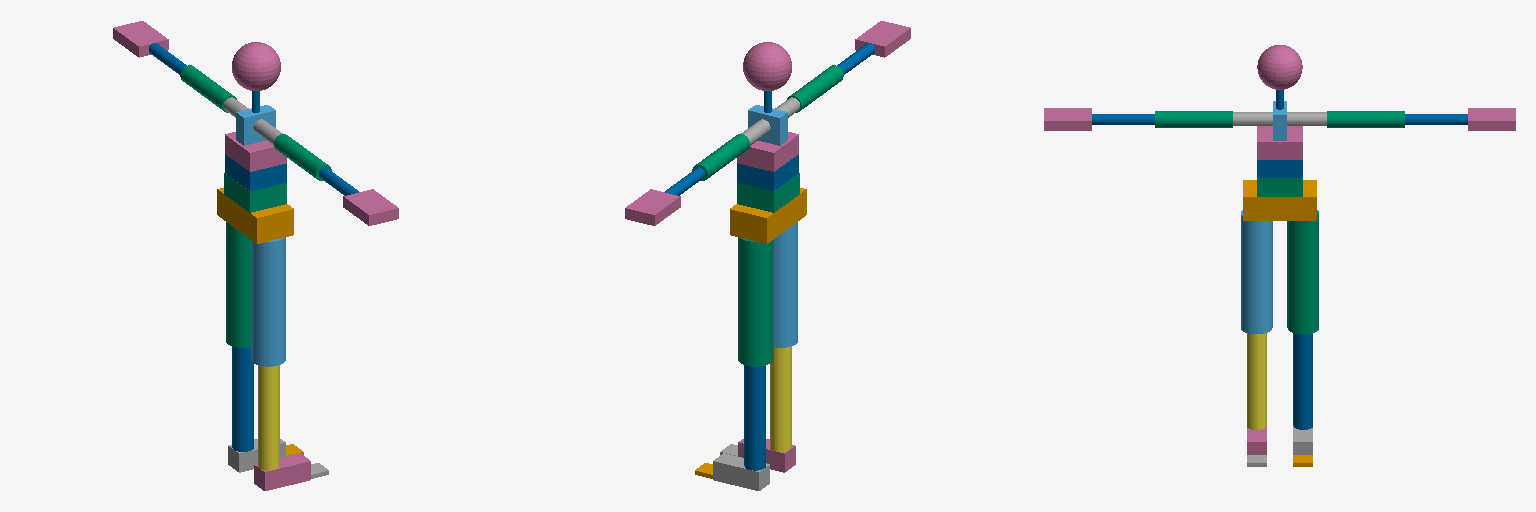
--- What the picture shows (computed from the rendered views, not written in the file) ---
3 views of the same robot in one strip: view 1: azimuth 30°, elevation 25°; view 2: azimuth 150°, elevation 25°; view 3: azimuth 270°, elevation 25° (orthographic).
Model XSensStyleModel_template with 49 links and 48 joints (48 revolute), rooted at Pelvis, posed every joint at zero.
Links seen in each view (by area): view 1: RightUpperLeg, LeftUpperLeg, Pelvis, RightLowerLeg, LeftLowerLeg, Head, T12, RightFoot, RightHand, L5, LeftHand, L3 (+4 smaller); view 2: LeftUpperLeg, RightUpperLeg, Pelvis, LeftLowerLeg, RightLowerLeg, Head, T12, LeftFoot, LeftHand, L5, RightHand, L3 (+4 smaller); view 3: RightUpperLeg, LeftUpperLeg, Pelvis, RightLowerLeg, LeftLowerLeg, Head, T12, RightUpperArm, LeftUpperArm, RightHand, LeftHand, L5 (+5 smaller).
Link boxes in pixels (x1,y1,x2,y2): RightUpperLeg: (251, 237, 285, 366); LeftUpperLeg: (226, 222, 250, 347); Pelvis: (217, 188, 293, 243); RightLowerLeg: (258, 365, 279, 470); LeftLowerLeg: (232, 346, 253, 451); Head: (232, 42, 280, 90); T12: (225, 132, 286, 171); RightFoot: (254, 453, 310, 490); RightHand: (343, 189, 398, 225); L5: (224, 173, 286, 212); LeftHand: (113, 21, 168, 57); L3: (225, 154, 286, 190); LeftUpperLeg: (738, 237, 772, 366); RightUpperLeg: (773, 222, 797, 347); Pelvis: (730, 188, 806, 243); LeftLowerLeg: (744, 365, 765, 470); RightLowerLeg: (770, 346, 791, 451); Head: (743, 42, 791, 90); T12: (737, 132, 798, 171); LeftFoot: (713, 453, 769, 490); LeftHand: (625, 189, 680, 225); L5: (737, 173, 799, 212); RightHand: (855, 21, 910, 57); L3: (737, 154, 798, 190); RightUpperLeg: (1241, 210, 1272, 333); LeftUpperLeg: (1287, 210, 1318, 333); Pelvis: (1243, 180, 1316, 220); RightLowerLeg: (1247, 333, 1266, 429); LeftLowerLeg: (1293, 333, 1312, 429); Head: (1257, 45, 1302, 89); T12: (1257, 126, 1302, 159); RightUpperArm: (1155, 111, 1232, 127); LeftUpperArm: (1327, 111, 1404, 127); RightHand: (1044, 108, 1091, 130); LeftHand: (1468, 108, 1515, 130); L5: (1257, 178, 1302, 196).
Bounding box of the posed robot: 0.3304 × 1.92 × 1.79 m (x, y, z).
Geometry: primitives only (box / cylinder / sphere), no mesh files.

robot.urdf — XSensStyleModel_template:
<!--URDF MODEL 48 DoFs-->

<robot name="XSensStyleModel_template">
<!--To open this model with Gazebo replace the null masses, inertias and dimensions of the 'fake links f1 and f2'-->
    <!--LINKS-->
	<!--Link base (1)-->
	<link name="Pelvis">
        <inertial>
            <mass value="6.312"/>
			<!--COM origin wrt pHipOrigin-->
            <origin xyz="0           0    0.057318" rpy="0 0 0" />
            <inertia ixx="0.052822" iyy="0.019965" izz="0.060476" ixy="0" ixz="0" iyz="0"/>
        </inertial>

        <visual>
			<!--box origin wrt pHipOrigin-->
            <origin xyz="0           0    0.057318" rpy="0 0 0" />
            <geometry>
                <box size="0.16203     0.29786     0.10818"/>
            </geometry>
        </visual>

        <collision>
			<!--box origin wrt pHipOrigin-->
            <origin xyz="0           0    0.057318" rpy="0 0 0" />
            <geometry>
                <box size="0.16203     0.29786     0.10818"/>
            </geometry>
        </collision>

    </link>
    <!--Chain from (2) to (7)-->
	<link name="L5_f1">
        <inertial>
            <mass value="0"/>
            <origin xyz="0 0 0" rpy="0 0 0" />
            <inertia ixx="0" iyy="0" izz="0" ixy="0" ixz="0" iyz="0"/>
        </inertial>
    </link>
	<link name="L5">
        <inertial>
            <mass value="8.0478"/>
			<!--COM origin wrt jL5S1-->
            <origin xyz="0           0    0.044243" rpy="0 0 0" />
            <inertia ixx="0.029829" iyy="0.022858" izz="0.042185" ixy="0" ixz="0" iyz="0"/>
        </inertial>

        <visual>
			<!--box origin origin wrt jL5S1-->
            <origin xyz="0           0    0.044243" rpy="0 0 0" />
            <geometry>
                <box size="0.16203     0.19144    0.088486"/>
            </geometry>
        </visual>

        <collision>
			<!--box origin origin wrt jL5S1-->
            <origin xyz="0           0    0.044243" rpy="0 0 0" />
            <geometry>
                <box size="0.16203     0.19144    0.088486"/>
            </geometry>
        </collision>
    </link>
	<link name="L3_f1">
        <inertial>
            <mass value="0"/>
            <origin xyz="0 0 0" rpy="0 0 0" />
            <inertia ixx="0" iyy="0" izz="0" ixy="0" ixz="0" iyz="0"/>
        </inertial>
    </link>
	<link name="L3">
        <inertial>
            <mass value="8.0478"/>
			<!--COM origin wrt jL4L3-->
            <origin xyz="0           0    0.039957" rpy="0 0 0" />
            <inertia ixx="0.028861" iyy="0.02189" izz="0.042185" ixy="0" ixz="0" iyz="0"/>
        </inertial>

        <visual>
			<!--box origin origin wrt jL4L3-->
            <origin xyz="0           0    0.039957" rpy="0 0 0" />
            <geometry>
                <box size="0.16203     0.19144    0.079914"/>
            </geometry>
        </visual>

        <collision>
			<!--box origin origin wrt jL4L3-->
            <origin xyz="0           0    0.039957" rpy="0 0 0" />
            <geometry>
                <box size="0.16203     0.19144    0.079914"/>
            </geometry>
        </collision>
    </link>
	<link name="T12_f1">
        <inertial>
            <mass value="0"/>
            <origin xyz="0 0 0" rpy="0 0 0" />
            <inertia ixx="0" iyy="0" izz="0" ixy="0" ixz="0" iyz="0"/>
        </inertial>
    </link>
	<link name="T12">
        <inertial>
            <mass value="8.0478"/>
			<!--COM origin wrt jL1T12-->
            <origin xyz="0           0    0.039957" rpy="0 0 0" />
            <inertia ixx="0.028861" iyy="0.02189" izz="0.042185" ixy="0" ixz="0" iyz="0"/>
        </inertial>

        <visual>
			<!--box origin origin wrt jL1T12-->
            <origin xyz="0           0    0.039957" rpy="0 0 0" />
            <geometry>
                <box size="0.16203     0.19144    0.079914"/>
            </geometry>
        </visual>

        <collision>
			<!--box origin origin wrt jL1T12-->
            <origin xyz="0           0    0.039957" rpy="0 0 0" />
            <geometry>
                <box size="0.16203     0.19144    0.079914"/>
            </geometry>
        </collision>
    </link>
	<link name="T8_f1">
        <inertial>
            <mass value="0"/>
            <origin xyz="0 0 0" rpy="0 0 0" />
            <inertia ixx="0" iyy="0" izz="0" ixy="0" ixz="0" iyz="0"/>
        </inertial>
    </link>
	<link name="T8_f2">
        <inertial>
            <mass value="0"/>
            <origin xyz="0 0 0" rpy="0 0 0" />
            <inertia ixx="0" iyy="0" izz="0" ixy="0" ixz="0" iyz="0"/>
        </inertial>
    </link>
	<link name="T8">
        <inertial>
            <mass value="3.156"/>
			<!--COM origin wrt jT9T8-->
            <origin xyz="0           0    0.057446" rpy="0 0 0" />
            <inertia ixx="0.0044311" iyy="0.0085523" izz="0.0060402" ixy="0" ixz="0" iyz="0"/>
        </inertial>

        <visual>
			<!--box origin wrt jT9T8-->
            <origin xyz="0           0    0.057446" rpy="0 0 0" />
            <geometry>
                <box size="0.13899      0.0604     0.11489"/>
            </geometry>
        </visual>

        <collision>
			<!--box origin wrt jT9T8-->
            <origin xyz="0           0    0.057446" rpy="0 0 0" />
            <geometry>
                <box size="0.13899      0.0604     0.11489"/>
            </geometry>
        </collision>

    </link>
	<link name="Neck_f1">
        <inertial>
            <mass value="0"/>
            <origin xyz="0 0 0" rpy="0 0 0" />
            <inertia ixx="0" iyy="0" izz="0" ixy="0" ixz="0" iyz="0"/>
        </inertial>
    </link>
	<link name="Neck_f2">
        <inertial>
            <mass value="0"/>
            <origin xyz="0 0 0" rpy="0 0 0" />
            <inertia ixx="0" iyy="0" izz="0" ixy="0" ixz="0" iyz="0"/>
        </inertial>
    </link>
	<link name="Neck">
        <inertial>
            <mass value="0.9468"/>
			<!--COM origin wrt jT1C7-->
            <origin xyz="0           0    0.045875" rpy="0 0 0" />
            <inertia ixx="0.00087909" iyy="0.00087909" izz="0.00042982" ixy="0" ixz="0" iyz="0"/>
        </inertial>

        <visual>
			<!--box origin wrt jT1C7-->
            <origin xyz="0           0    0.045875" rpy="0 0 0" />
            <geometry>
		<cylinder length="0.09175" radius="0.015066"/>
            </geometry>
        </visual>

        <collision>
			<!--box origin wrt jT1C7-->
            <origin xyz="0           0    0.045875" rpy="0 0 0" />
            <geometry>
                <cylinder length="0.09175" radius="0.015066"/>
            </geometry>
        </collision>
    </link>
	<link name="Head_f1">
        <inertial>
            <mass value="0"/>
            <origin xyz="0 0 0" rpy="0 0 0" />
            <inertia ixx="0" iyy="0" izz="0" ixy="0" ixz="0" iyz="0"/>
        </inertial>
    </link>
	<link name="Head">
        <inertial>
            <mass value="2.8404"/>
			<!--COM origin wrt jC1Head-->
            <origin xyz="0           0    0.092703" rpy="0 0 0" />
            <inertia ixx="0.0097641" iyy="0.0097641" izz="0.0097641" ixy="0" ixz="0" iyz="0"/>
        </inertial>

        <visual>
			<!--boc origin wrt jC1Head-->
            <origin xyz="0           0    0.092703" rpy="0 0 0" />
            <geometry>
                <sphere radius="0.092703"/>
            </geometry>
        </visual>

        <collision>
			<!--box origin wrt jC1Head-->
            <origin xyz="0           0    0.092703" rpy="0 0 0" />
            <geometry>
                <sphere radius="0.092703"/>
            </geometry>
        </collision>

    </link>
	<!--Chain from (8) to (11)-->
	<link name="RightShoulder">
        <inertial>
            <mass value="2.4459"/>
			<!--COM origin wrt jRightC7Shoulder-->
            <origin xyz="0   -0.081595           0" rpy="0 0 0" />
            <inertia ixx="0.0059341" iyy="0.0010123" izz="0.0059341" ixy="0" ixz="0" iyz="0"/>
        </inertial>

        <visual>
			<!--box origin wrt jRightC7Shoulder. RPY rotated of pi/2.-->
            <origin xyz="0   -0.081595           0" rpy="1.5708 0 0" />
            <geometry>
                <cylinder length="0.16319" radius="0.02877"/>
            </geometry>
        </visual>

        <collision>
			<!--box origin wrt jRightC7Shoulder. RPY rotated of pi/2.-->
            <origin xyz="0   -0.081595           0" rpy="1.5708 0 0" />
            <geometry>
                <cylinder length="0.16319" radius="0.02877"/>
            </geometry>
        </collision>

    </link>
	<link name="RightUpperArm_f1">
        <inertial>
            <mass value="0"/>
            <origin xyz="0 0 0" rpy="0 0 0" />
            <inertia ixx="0" iyy="0" izz="0" ixy="0" ixz="0" iyz="0"/>
        </inertial>
    </link>
	<link name="RightUpperArm_f2">
        <inertial>
            <mass value="0"/>
            <origin xyz="0 0 0" rpy="0 0 0" />
            <inertia ixx="0" iyy="0" izz="0" ixy="0" ixz="0" iyz="0"/>
        </inertial>
    </link>
    <link name="RightUpperArm">
        <inertial>
            <mass value="2.367"/>
			<!--COM origin wrt jRightShoulder-->
            <origin xyz="0    -0.15754           0" rpy="0 0 0" />
            <inertia ixx="0.020275" iyy="0.0013847" izz="0.020275" ixy="0" ixz="0" iyz="0"/>
        </inertial>

        <visual>
			<!--box origin wrt jRightShoulder. RPY rotated of pi/2.-->
            <origin xyz="0    -0.15754           0" rpy="1.5708 0 0" />
            <geometry>
                <cylinder length="0.31509" radius="0.034205"/>
            </geometry>
        </visual>

        <collision>
			<!--box origin wrt jRightShoulder. RPY rotated of pi/2.-->
            <origin xyz="0    -0.15754           0" rpy="1.5708 0 0" />
            <geometry>
                <cylinder length="0.31509" radius="0.034205"/>
            </geometry>
        </collision>

    </link>
	<link name="RightForeArm_f1">
        <inertial>
            <mass value="0"/>
            <origin xyz="0 0 0" rpy="0 0 0" />
            <inertia ixx="0" iyy="0" izz="0" ixy="0" ixz="0" iyz="0"/>
        </inertial>
    </link>
	<link name="RightForeArm">
        <inertial>
            <mass value="1.578"/>
			<!--COM origin wrt jRightElbow-->
            <origin xyz="0     -0.1292           0" rpy="0 0 0" />
            <inertia ixx="0.0089856" iyy="0.00041027" izz="0.0089856" ixy="0" ixz="0" iyz="0"/>
        </inertial>

        <visual>
			<!--box origin wrt jRightElbow. RPY rotated of pi/2.-->
            <origin xyz="0     -0.1292           0" rpy="1.5708 0 0" />
            <geometry>
                <cylinder length="0.2584" radius="0.022803"/>
            </geometry>
        </visual>

        <collision>
			<!--box origin wrt jRightElbow. RPY rotated of pi/2.-->
            <origin xyz="0     -0.1292           0" rpy="1.5708 0 0" />
            <geometry>
                <cylinder length="0.2584" radius="0.022803"/>
            </geometry>
        </collision>

    </link>
	<link name="RightHand_f1">
        <inertial>
            <mass value="0"/>
            <origin xyz="0 0 0" rpy="0 0 0" />
            <inertia ixx="0" iyy="0" izz="0" ixy="0" ixz="0" iyz="0"/>
        </inertial>
    </link>
	<link name="RightHand">
        <inertial>
            <mass value="1.1334"/>
			<!--COM origin wrt jRightWrist-->
            <origin xyz="0   -0.096871           0" rpy="0 0 0" />
            <inertia ixx="0.0037418" iyy="0.0017721" izz="0.005121" ixy="0" ixz="0" iyz="0"/>
        </inertial>

        <visual>
			<!--box origin wrt jRightWrist-->
            <origin xyz="0   -0.096871           0" rpy="0 0 0" />
            <geometry>
                <box size="0.12916     0.19374    0.045607"/>
            </geometry>
        </visual>

        <collision>
			<!--box origin wrt jRightWrist-->
            <origin xyz="0   -0.096871           0" rpy="0 0 0" />
            <geometry>
                <box size="0.12916     0.19374    0.045607"/>
            </geometry>
        </collision>

    </link>
	<!--Chain from (12) to (15)-->
	<link name="LeftShoulder">
        <inertial>
            <mass value="2.4459"/>
			<!--COM origin wrt jLeftC7Shoulder-->
            <origin xyz="0    0.081595           0" rpy="0 0 0" />
            <inertia ixx="0.0059341" iyy="0.0010123" izz="0.0059341" ixy="0" ixz="0" iyz="0"/>
        </inertial>

        <visual>
			<!--box origin wrt jLeftC7Shoulder. RPY rotated of pi/2.-->
            <origin xyz="0    0.081595           0" rpy="1.5708 0 0" />
            <geometry>
                <cylinder length="0.16319" radius="0.02877"/>
            </geometry>
        </visual>

        <collision>
			<!--box origin wrt jLeftC7Shoulder. RPY rotated of pi/2.-->
            <origin xyz="0    0.081595           0" rpy="1.5708 0 0" />
            <geometry>
                <cylinder length="0.16319" radius="0.02877"/>
            </geometry>
        </collision>

    </link>
	<link name="LeftUpperArm_f1">
        <inertial>
            <mass value="0"/>
            <origin xyz="0 0 0" rpy="0 0 0" />
            <inertia ixx="0" iyy="0" izz="0" ixy="0" ixz="0" iyz="0"/>
        </inertial>
    </link>
	<link name="LeftUpperArm_f2">
        <inertial>
            <mass value="0"/>
            <origin xyz="0 0 0" rpy="0 0 0" />
            <inertia ixx="0" iyy="0" izz="0" ixy="0" ixz="0" iyz="0"/>
        </inertial>
    </link>
	<link name="LeftUpperArm">
        <inertial>
            <mass value="2.367"/>
			<!--COM origin wrt jLeftShoulder-->
            <origin xyz="0     0.15754           0" rpy="0 0 0" />
            <inertia ixx="0.020275" iyy="0.0013847" izz="0.020275" ixy="0" ixz="0" iyz="0"/>
        </inertial>

        <visual>
			<!--box origin wrt jLeftShoulder. RPY rotated of pi/2.-->
            <origin xyz="0     0.15754           0" rpy="1.5708 0 0" />
            <geometry>
                <cylinder length="0.31509" radius="0.034205"/>
            </geometry>
        </visual>

        <collision>
			<!--box origin wrt jLeftShoulder. RPY rotated of pi/2.-->
            <origin xyz="0     0.15754           0" rpy="1.5708 0 0" />
            <geometry>
                <cylinder length="0.31509" radius="0.034205"/>
            </geometry>
        </collision>

    </link>
	<link name="LeftForeArm_f1">
        <inertial>
            <mass value="0"/>
            <origin xyz="0 0 0" rpy="0 0 0" />
            <inertia ixx="0" iyy="0" izz="0" ixy="0" ixz="0" iyz="0"/>
        </inertial>
    </link>
	<link name="LeftForeArm">
        <inertial>
            <mass value="1.578"/>
			<!--COM origin wrt jLeftElbow-->
            <origin xyz="0      0.1292           0" rpy="0 0 0" />
            <inertia ixx="0.0089856" iyy="0.00041027" izz="0.0089856" ixy="0" ixz="0" iyz="0"/>
        </inertial>

        <visual>
			<!--box origin wrt jLeftElbow. RPY rotated of pi/2.-->
            <origin xyz="0      0.1292           0" rpy="1.5708 0 0" />
            <geometry>
                <cylinder length="0.2584" radius="0.022803"/>
            </geometry>
        </visual>

        <collision>
			<!--box origin wrt jLeftElbow. RPY rotated of pi/2.-->
            <origin xyz="0      0.1292           0" rpy="1.5708 0 0" />
            <geometry>
                <cylinder length="0.2584" radius="0.022803"/>
            </geometry>
        </collision>

    </link>
	<link name="LeftHand_f1">
        <inertial>
            <mass value="0"/>
            <origin xyz="0 0 0" rpy="0 0 0" />
            <inertia ixx="0" iyy="0" izz="0" ixy="0" ixz="0" iyz="0"/>
        </inertial>
    </link>
	<link name="LeftHand">
        <inertial>
            <mass value="0.4734"/>
			<!--COM origin wrt jLeftWrist-->
            <origin xyz="0    0.096871           0" rpy="0 0 0" />
            <inertia ixx="0.0015629" iyy="0.00074019" izz="0.0021389" ixy="0" ixz="0" iyz="0"/>
        </inertial>

        <visual>
			<!--COM origin wrt jLeftWrist-->
            <origin xyz="0    0.096871           0" rpy="0 0 0" />
            <geometry>
                <box size="0.12916     0.19374    0.045607"/>
            </geometry>
        </visual>

        <collision>
			<!--COM origin wrt jLeftWrist-->
            <origin xyz="0    0.096871           0" rpy="0 0 0" />
            <geometry>
                <box size="0.12916     0.19374    0.045607"/>
            </geometry>
        </collision>

    </link>
	<!--Chain from (16) to (19)-->
	<link name="RightUpperLeg_f1">
        <inertial>
            <mass value="0"/>
            <origin xyz="0 0 0" rpy="0 0 0" />
            <inertia ixx="0" iyy="0" izz="0" ixy="0" ixz="0" iyz="0"/>
        </inertial>
    </link>
	<link name="RightUpperLeg_f2">
        <inertial>
            <mass value="0"/>
            <origin xyz="0 0 0" rpy="0 0 0" />
            <inertia ixx="0" iyy="0" izz="0" ixy="0" ixz="0" iyz="0"/>
        </inertial>
    </link>
    <link name="RightUpperLeg">
        <inertial>
            <mass value="9.8625"/>
			<!--COM origin wrt jRightHip-->
            <origin xyz="0           0     -0.2582" rpy="0 0 0" />
            <inertia ixx="0.22964" iyy="0.22964" izz="0.020925" ixy="0" ixz="0" iyz="0"/>
        </inertial>

        <visual>
			<!--box origin wrt jRightHip-->
            <origin xyz="0           0     -0.2582" rpy="0 0 0" />
            <geometry>
                <cylinder length="0.51641" radius="0.065141"/>
            </geometry>
        </visual>

        <collision>
			<!--box origin wrt jRightHip-->
            <origin xyz="0           0     -0.2582" rpy="0 0 0" />
            <geometry>
                <cylinder length="0.51641" radius="0.065141"/>
            </geometry>
        </collision>

    </link>
	<link name="RightLowerLeg_f1">
        <inertial>
            <mass value="0"/>
            <origin xyz="0 0 0" rpy="0 0 0" />
            <inertia ixx="0" iyy="0" izz="0" ixy="0" ixz="0" iyz="0"/>
        </inertial>
    </link>
    <link name="RightLowerLeg">
        <inertial>
            <mass value="2.8799"/>
			<!--COM origin wrt jRightKnee-->
            <origin xyz="0           0    -0.22068" rpy="0 0 0" />
            <inertia ixx="0.047941" iyy="0.047941" izz="0.002384" ixy="0" ixz="0" iyz="0"/>
        </inertial>

        <visual>
			<!--box origin wrt jRightKnee-->
            <origin xyz="0           0    -0.22068" rpy="0 0 0" />
            <geometry>
                <cylinder length="0.44136" radius="0.04069"/>
            </geometry>
        </visual>

        <collision>
			<!--box origin wrt jRightKnee-->
            <origin xyz="0           0    -0.22068" rpy="0 0 0" />
            <geometry>
                <cylinder length="0.44136" radius="0.04069"/>
            </geometry>
        </collision>

    </link>
	<link name="RightFoot_f1">
        <inertial>
            <mass value="0"/>
            <origin xyz="0 0 0" rpy="0 0 0" />
            <inertia ixx="0" iyy="0" izz="0" ixy="0" ixz="0" iyz="0"/>
        </inertial>
    </link>
	<link name="RightFoot_f2">
        <inertial>
            <mass value="0"/>
            <origin xyz="0 0 0" rpy="0 0 0" />
            <inertia ixx="0" iyy="0" izz="0" ixy="0" ixz="0" iyz="0"/>
        </inertial>
    </link>
    <link name="RightFoot">
        <inertial>
            <mass value="1.0257"/>
			<!--COM origin wrt jRightAnkle-->
            <origin xyz="0.059932           0    -0.03973" rpy="0 0 0" />
            <inertia ixx="0.0011058" iyy="0.003993" izz="0.0040194" ixy="0" ixz="0" iyz="0"/>
        </inertial>

        <visual>
			<!--box origin wrt jRightAnkle-->
	    	<origin xyz="0.059932           0    -0.03973" rpy="0 0 0" />
            <geometry>
                <box size="0.201     0.08138     0.07946"/>
            </geometry>
        </visual>

        <collision>
			<!--box origin wrt jRightAnkle-->
		    <origin xyz="0.059932           0    -0.03973" rpy="0 0 0" />
	            <geometry>
	                <box size="0.201     0.08138     0.07946"/>
	            </geometry>
        </collision>

    </link>
    <link name="RightToe">
        <inertial>
            <mass value="0.11835"/>
			<!--COM origin wrt jRightBallFoot-->
            <origin xyz="0.039497           0           0" rpy="0 0 0" />
            <inertia ixx="6.8414e-05" iyy="6.4641e-05" izz="0.00012686" ixy="0" ixz="0" iyz="0"/>
        </inertial>

        <visual>
			<!--box origin wrt jRightBallFoot-->
            <origin xyz="0.039497           0           0" rpy="0 0 0" />
            <geometry>
                <box size="0.078995     0.08138    0.017721"/>
            </geometry>
        </visual>

        <collision>
			<!--box origin wrt jRightBallFoot-->
            <origin xyz="0.039497           0           0" rpy="0 0 0" />
            <geometry>
                <box size="0.078995     0.08138    0.017721"/>
            </geometry>
        </collision>
    </link>
	<!--Chain from (20) to (23)-->
	<link name="LeftUpperLeg_f1">
        <inertial>
            <mass value="0"/>
            <origin xyz="0 0 0" rpy="0 0 0" />
            <inertia ixx="0" iyy="0" izz="0" ixy="0" ixz="0" iyz="0"/>
        </inertial>
    </link>
	<link name="LeftUpperLeg_f2">
        <inertial>
            <mass value="0"/>
            <origin xyz="0 0 0" rpy="0 0 0" />
            <inertia ixx="0" iyy="0" izz="0" ixy="0" ixz="0" iyz="0"/>
        </inertial>
    </link>
    <link name="LeftUpperLeg">
        <inertial>
            <mass value="9.8625"/>
			<!--COM origin wrt jLeftHip-->
            <origin xyz="0           0     -0.2582" rpy="0 0 0" />
            <inertia ixx="0.22964" iyy="0.22964" izz="0.020925" ixy="0" ixz="0" iyz="0"/>
        </inertial>

        <visual>
			<!--box origin wrt jLeftHip-->
            <origin xyz="0           0     -0.2582" rpy="0 0 0" />
            <geometry>
                <cylinder length="0.51641" radius="-0.065141"/>
            </geometry>
        </visual>

        <collision>
			<!--box origin wrt jLeftHip-->
            <origin xyz="0           0     -0.2582" rpy="0 0 0" />
            <geometry>
                <cylinder length="0.51641" radius="-0.065141"/>
            </geometry>
        </collision>

    </link>
	<link name="LeftLowerLeg_f1">
        <inertial>
            <mass value="0"/>
            <origin xyz="0 0 0" rpy="0 0 0" />
            <inertia ixx="0" iyy="0" izz="0" ixy="0" ixz="0" iyz="0"/>
        </inertial>
    </link>
	<link name="LeftLowerLeg">
        <inertial>
            <mass value="2.8799"/>
			<!--COM origin wrt jLeftKnee-->
            <origin xyz="0           0    -0.22068" rpy="0 0 0" />
            <inertia ixx="0.047941" iyy="0.047941" izz="0.002384" ixy="0" ixz="0" iyz="0"/>
        </inertial>

        <visual>
			<!--box origin wrt jLeftKnee-->
            <origin xyz="0           0    -0.22068" rpy="0 0 0" />
            <geometry>
		<cylinder length="0.44136" radius="0.04069"/>
            </geometry>
        </visual>

        <collision>
			<!--box origin wrt jLeftKnee-->
            <origin xyz="0           0    -0.22068" rpy="0 0 0" />
            <geometry>
		<cylinder length="0.44136" radius="0.04069"/>
            </geometry>
        </collision>

    </link>
	<link name="LeftFoot_f1">
        <inertial>
            <mass value="0"/>
            <origin xyz="0 0 0" rpy="0 0 0" />
            <inertia ixx="0" iyy="0" izz="0" ixy="0" ixz="0" iyz="0"/>
        </inertial>
    </link>
	<link name="LeftFoot_f2">
        <inertial>
            <mass value="0"/>
            <origin xyz="0 0 0" rpy="0 0 0" />
            <inertia ixx="0" iyy="0" izz="0" ixy="0" ixz="0" iyz="0"/>
        </inertial>
    </link>
    <link name="LeftFoot">
        <inertial>
            <mass value="1.0257"/>
			<!--COM origin wrt jLeftAnkle-->
            <origin xyz="0.059932           0    -0.03973" rpy="0 0 0" />
            <inertia ixx="0.0011058" iyy="0.003993" izz="0.0040194" ixy="0" ixz="0" iyz="0"/>
        </inertial>

        <visual>
			<!--box origin wrt jLeftAnkle-->
	   	 	<origin xyz="0.059932           0    -0.03973" rpy="0 0 0" />
            <geometry>
                <box size="0.201     0.08138     0.07946"/>
            </geometry>
        </visual>

        <collision>
			<!--box origin wrt jLeftAnkle-->
		    <origin xyz="0.059932           0    -0.03973" rpy="0 0 0" />
	            <geometry>
	                <box size="0.201     0.08138     0.07946"/>
	            </geometry>
        </collision>

    </link>
	<link name="LeftToe">
        <inertial>
            <mass value="0.11835"/>
			<!--COM origin wrt jLeftBallFoot-->
            <origin xyz="0.039497           0           0" rpy="0 0 0" />
            <inertia ixx="6.8414e-05" iyy="6.4641e-05" izz="0.00012686" ixy="0" ixz="0" iyz="0"/>
        </inertial>

        <visual>
			<!--box origin wrt jLeftBallFoot-->
            <origin xyz="0.039497           0           0" rpy="0 0 0" />
            <geometry>
                <box size="0.078995     0.08138    0.017721"/>
            </geometry>
        </visual>

        <collision>
			<!--box origin wrt jLeftBallFoot-->
            <origin xyz="0.039497           0           0" rpy="0 0 0" />
            <geometry>
                <box size="0.078995     0.08138    0.017721"/>
            </geometry>
        </collision>
    </link>


	<!--JOINTS-->
	<!--Chain from (2) to (7)-->
	<joint name="jL5S1_rotx" type="revolute">
        <origin xyz="-0.000659           0     0.11141" rpy="0 0 0"/>
        <parent link="Pelvis"/>
        <child link="L5_f1"/>
        <dynamics damping="0.1" friction="0.0"/>
        <limit effort="30" velocity="1.0" lower="-0.610865" upper="0.610865" />
        <axis xyz="1 0 0" />
    </joint>
	<joint name="jL5S1_roty" type="revolute">
        <origin xyz="0 0 0" rpy="0 0 0"/>
        <parent link="L5_f1"/>
        <child link="L5"/>
        <dynamics damping="0.1" friction="0.0"/>
        <limit effort="30" velocity="1.0" lower="-0.523599" upper="1.309" />
        <axis xyz="0 1 0" />
    </joint>
	<joint name="jL4L3_rotx" type="revolute">
        <origin xyz="0.001197           0    0.088486" rpy="0 0 0"/>
        <parent link="L5"/>
        <child link="L3_f1"/>
        <dynamics damping="0.1" friction="0.0"/>
        <limit effort="30" velocity="1.0" lower="-0.610865" upper="0.610865" />
        <axis xyz="1 0 0" />
    </joint>
	<joint name="jL4L3_roty" type="revolute">
        <origin xyz="0 0 0" rpy="0 0 0"/>
        <parent link="L3_f1"/>
        <child link="L3"/>
        <dynamics damping="0.1" friction="0.0"/>
        <limit effort="30" velocity="1.0" lower="-0.523599" upper="1.309" />
        <axis xyz="0 1 0" />
    </joint>
	<joint name="jL1T12_rotx" type="revolute">
        <origin xyz="0           0    0.079914" rpy="0 0 0"/>
        <parent link="L3"/>
        <child link="T12_f1"/>
        <dynamics damping="0.1" friction="0.0"/>
        <limit effort="30" velocity="1.0" lower="-0.610865" upper="0.610865" />
        <axis xyz="1 0 0" />
    </joint>
	<joint name="jL1T12_roty" type="revolute">
        <origin xyz="0 0 0" rpy="0 0 0"/>
        <parent link="T12_f1"/>
        <child link="T12"/>
        <dynamics damping="0.1" friction="0.0"/>
        <limit effort="30" velocity="1.0" lower="-0.523599" upper="1.309" />
        <axis xyz="0 1 0" />
    </joint>
	<joint name="jT9T8_rotx" type="revolute">
        <origin xyz="0           0    0.079914" rpy="0 0 0"/>
        <parent link="T12"/>
        <child link="T8_f1"/>
        <dynamics damping="0.1" friction="0.0"/>
        <limit effort="30" velocity="1.0" lower="-0.349066" upper="0.349066" />
        <axis xyz="1 0 0" />
    </joint>
	<joint name="jT9T8_roty" type="revolute">
        <origin xyz="0 0 0" rpy="0 0 0"/>
        <parent link="T8_f1"/>
        <child link="T8_f2"/>
        <dynamics damping="0.1" friction="0.0"/>
        <limit effort="30" velocity="1.0" lower="-0.261799" upper="0.698132" />
        <axis xyz="0 1 0" />
    </joint>
    <joint name="jT9T8_rotz" type="revolute">
        <origin xyz="0 0 0" rpy="0 0 0"/>
        <parent link="T8_f2"/>
        <child link="T8"/>
        <dynamics damping="0.1" friction="0.0"/>
        <limit effort="30" velocity="1.0" lower="-0.610865" upper="0.610865" />
        <axis xyz="0 0 1" />
    </joint>
	<joint name="jT1C7_rotx" type="revolute">
        <origin xyz="0           0     0.11489" rpy="0 0 0"/>
        <parent link="T8"/>
        <child link="Neck_f1"/>
        <dynamics damping="0.1" friction="0.0"/>
        <limit effort="30" velocity="1.0" lower="-0.610865" upper="0.610865" />
        <axis xyz="1 0 0" />
    </joint>
	<joint name="jT1C7_roty" type="revolute">
        <origin xyz="0 0 0" rpy="0 0 0"/>
        <parent link="Neck_f1"/>
        <child link="Neck_f2"/>
        <dynamics damping="0.1" friction="0.0"/>
        <limit effort="30" velocity="1.0" lower="-0.959931" upper="1.5708" />
        <axis xyz="0 1 0" />
    </joint>
    <joint name="jT1C7_rotz" type="revolute">
        <origin xyz="0 0 0" rpy="0 0 0"/>
        <parent link="Neck_f2"/>
        <child link="Neck"/>
        <dynamics damping="0.1" friction="0.0"/>
        <limit effort="30" velocity="1.0" lower="-1.22173" upper="1.22173" />
        <axis xyz="0 0 1" />
    </joint>
	<joint name="jC1Head_rotx" type="revolute">
        <origin xyz="0.001481           0     0.09175" rpy="0 0 0"/>
        <parent link="Neck"/>
        <child link="Head_f1"/>
        <dynamics damping="0.1" friction="0.0"/>
        <limit effort="30" velocity="1.0" lower="-0.610865" upper="0.610865" />
        <axis xyz="1 0 0" />
    </joint>
	<joint name="jC1Head_roty" type="revolute">
        <origin xyz="0 0 0" rpy="0 0 0"/>
        <parent link="Head_f1"/>
        <child link="Head"/>
        <dynamics damping="0.1" friction="0.0"/>
        <limit effort="30" velocity="1.0" lower="-0.436332" upper="0.174533" />
        <axis xyz="0 1 0" />
    </joint>
	<!--Chain from (8) to (11)-->
	<joint name="jRightC7Shoulder_rotx" type="revolute">
        <origin xyz="0     -0.0302    0.064859" rpy="0 0 0"/>
        <parent link="T8"/>
        <child link="RightShoulder"/>
        <dynamics damping="0.1" friction="0.0"/>
        <limit effort="30" velocity="1.0" lower="-0.0872665" upper="0.785398" />
        <axis xyz="1 0 0" />
    </joint>
	<joint name="jRightShoulder_rotx" type="revolute">
        <origin xyz="0    -0.16319           0" rpy="0 0 0"/>
        <parent link="RightShoulder"/>
        <child link="RightUpperArm_f1"/>
        <dynamics damping="0.1" friction="0.0"/>
        <limit effort="30" velocity="1.0" lower="-2.35619" upper="1.5708" />
        <axis xyz="1 0 0" />
    </joint>
	<joint name="jRightShoulder_roty" type="revolute">
        <origin xyz="0 0 0" rpy="0 0 0"/>
        <parent link="RightUpperArm_f1"/>
        <child link="RightUpperArm_f2"/>
        <dynamics damping="0.1" friction="0.0"/>
        <limit effort="30" velocity="1.0" lower="-1.5708" upper="1.5708" />
        <axis xyz="0 1 0" />
    </joint>
    <joint name="jRightShoulder_rotz" type="revolute">
        <origin xyz="0 0 0" rpy="0 0 0"/>
        <parent link="RightUpperArm_f2"/>
        <child link="RightUpperArm"/>
        <dynamics damping="0.1" friction="0.0"/>
        <limit effort="30" velocity="1.0" lower="-0.785398" upper="3.14159" />
        <axis xyz="0 0 1" />
    </joint>
	<joint name="jRightElbow_roty" type="revolute">
        <origin xyz="0    -0.31509           0" rpy="0 0 0"/>
        <parent link="RightUpperArm"/>
        <child link="RightForeArm_f1"/>
        <dynamics damping="0.1" friction="0.0"/>
        <limit effort="30" velocity="1.0" lower="-1.5708" upper="1.48353" />
        <axis xyz="0 1 0" />
    </joint>
	<joint name="jRightElbow_rotz" type="revolute">
        <origin xyz="0 0 0" rpy="0 0 0"/>
        <parent link="RightForeArm_f1"/>
        <child link="RightForeArm"/>
        <dynamics damping="0.1" friction="0.0"/>
        <limit effort="30" velocity="1.0" lower="0" upper="2.53073" />
        <axis xyz="0 0 1" />
    </joint>
	<joint name="jRightWrist_rotx" type="revolute">
        <origin xyz="2.6e-05     -0.2584           0" rpy="0 0 0"/>
        <parent link="RightForeArm"/>
        <child link="RightHand_f1"/>
        <dynamics damping="0.1" friction="0.0"/>
        <limit effort="30" velocity="1.0" lower="-0.872665" upper="1.0472" />
        <axis xyz="1 0 0" />
    </joint>
	<joint name="jRightWrist_rotz" type="revolute">
        <origin xyz="0 0 0" rpy="0 0 0"/>
        <parent link="RightHand_f1"/>
        <child link="RightHand"/>
        <dynamics damping="0.1" friction="0.0"/>
        <limit effort="30" velocity="1.0" lower="-0.523599" upper="0.349066" />
        <axis xyz="0 0 1" />
    </joint>
	<!--Chain from (12) to (15)-->
	<joint name="jLeftC7Shoulder_rotx" type="revolute">
        <origin xyz="0      0.0302    0.064859" rpy="0 0 0"/>
        <parent link="T8"/>
        <child link="LeftShoulder"/>
        <dynamics damping="0.1" friction="0.0"/>
        <limit effort="30" velocity="1.0" lower="-0.0872665" upper="0.785398" />
        <axis xyz="1 0 0" />
    </joint>
	<joint name="jLeftShoulder_rotx" type="revolute">
        <origin xyz="0     0.16319           0" rpy="0 0 0"/>
        <parent link="LeftShoulder"/>
        <child link="LeftUpperArm_f1"/>
        <dynamics damping="0.1" friction="0.0"/>
        <limit effort="30" velocity="1.0" lower="-1.5708" upper="2.35619" />
        <axis xyz="1 0 0" />
    </joint>
	<joint name="jLeftShoulder_roty" type="revolute">
        <origin xyz="0 0 0" rpy="0 0 0"/>
        <parent link="LeftUpperArm_f1"/>
        <child link="LeftUpperArm_f2"/>
        <dynamics damping="0.1" friction="0.0"/>
        <limit effort="30" velocity="1.0" lower="-1.5708" upper="1.5708" />
        <axis xyz="0 1 0" />
    </joint>
    <joint name="jLeftShoulder_rotz" type="revolute">
        <origin xyz="0 0 0" rpy="0 0 0"/>
        <parent link="LeftUpperArm_f2"/>
        <child link="LeftUpperArm"/>
        <dynamics damping="0.1" friction="0.0"/>
        <limit effort="30" velocity="1.0" lower="-3.14159" upper="0.785398" />
        <axis xyz="0 0 1" />
    </joint>
    <joint name="jLeftElbow_roty" type="revolute">
        <origin xyz="0     0.31509           0" rpy="0 0 0"/>
        <parent link="LeftUpperArm"/>
        <child link="LeftForeArm_f1"/>
        <dynamics damping="0.1" friction="0.0"/>
        <limit effort="30" velocity="1.0" lower="-1.5708" upper="1.48353" />
        <axis xyz="0 1 0" />
    </joint>
    <joint name="jLeftElbow_rotz" type="revolute">
        <origin xyz="0 0 0" rpy="0 0 0"/>
        <parent link="LeftForeArm_f1"/>
        <child link="LeftForeArm"/>
        <dynamics damping="0.1" friction="0.0"/>
        <limit effort="30" velocity="1.0" lower="-2.53073" upper="0" />
        <axis xyz="0 0 1" />
    </joint>
	<joint name="jLeftWrist_rotx" type="revolute">
        <origin xyz="2.6e-05      0.2584           0" rpy="0 0 0"/>
        <parent link="LeftForeArm"/>
        <child link="LeftHand_f1"/>
        <dynamics damping="0.1" friction="0.0"/>
        <limit effort="30" velocity="1.0" lower="-1.0472" upper="0.872665" />
        <axis xyz="1 0 0" />
    </joint>
	<joint name="jLeftWrist_rotz" type="revolute">
        <origin xyz="0 0 0" rpy="0 0 0"/>
        <parent link="LeftHand_f1"/>
        <child link="LeftHand"/>
        <dynamics damping="0.1" friction="0.0"/>
        <limit effort="30" velocity="1.0" lower="-0.349066" upper="0.523599" />
        <axis xyz="0 0 1" />
    </joint>
	<!--Chain from (16) to (19)-->
	<joint name="jRightHip_rotx" type="revolute">
        <origin xyz="0.000329   -0.095719    0.003228" rpy="0 0 0"/>
        <parent link="Pelvis"/>
        <child link="RightUpperLeg_f1"/>
        <dynamics damping="0.1" friction="0.0"/>
        <limit effort="30" velocity="1.0" lower="-0.523599" upper="0.785398" />
        <axis xyz="1 0 0" />
    </joint>
	<joint name="jRightHip_roty" type="revolute">
        <origin xyz="0 0 0" rpy="0 0 0"/>
        <parent link="RightUpperLeg_f1"/>
        <child link="RightUpperLeg_f2"/>
        <dynamics damping="0.1" friction="0.0"/>
        <limit effort="30" velocity="1.0" lower="-0.261799" upper="2.0944" />
        <axis xyz="0 1 0" />
    </joint>
    <joint name="jRightHip_rotz" type="revolute">
        <origin xyz="0 0 0" rpy="0 0 0"/>
        <parent link="RightUpperLeg_f2"/>
        <child link="RightUpperLeg"/>
        <dynamics damping="0.1" friction="0.0"/>
        <limit effort="30" velocity="1.0" lower="-0.785398" upper="0.785398" />
        <axis xyz="0 0 1" />
    </joint>
	<joint name="jRightKnee_roty" type="revolute">
        <origin xyz="-1.7e-05           0    -0.51641" rpy="0 0 0"/>
        <parent link="RightUpperLeg"/>
        <child link="RightLowerLeg_f1"/>
        <dynamics damping="0.1" friction="0.0"/>
        <limit effort="30" velocity="1.0" lower="0" upper="2.35619" />
        <axis xyz="0 1 0" />
    </joint>
	<joint name="jRightKnee_rotz" type="revolute">
        <origin xyz="0 0 0" rpy="0 0 0"/>
        <parent link="RightLowerLeg_f1"/>
        <child link="RightLowerLeg"/>
        <dynamics damping="0.1" friction="0.0"/>
        <limit effort="30" velocity="1.0" lower="-0.698132" upper="0.523599" />
        <axis xyz="0 0 1" />
    </joint>
	<joint name="jRightAnkle_rotx" type="revolute">
        <origin xyz="-6.4e-05           0    -0.44136" rpy="0 0 0"/>
        <parent link="RightLowerLeg"/>
        <child link="RightFoot_f1"/>
        <dynamics damping="0.1" friction="0.0"/>
        <limit effort="30" velocity="1.0" lower="-0.610865" upper="0.785398" />
        <axis xyz="1 0 0" />
    </joint>
	<joint name="jRightAnkle_roty" type="revolute">
        <origin xyz="0 0 0" rpy="0 0 0"/>
        <parent link="RightFoot_f1"/>
        <child link="RightFoot_f2"/>
        <dynamics damping="0.1" friction="0.0"/>
        <limit effort="30" velocity="1.0" lower="-0.523599" upper="0.872665" />
        <axis xyz="0 1 0" />
    </joint>
    <joint name="jRightAnkle_rotz" type="revolute">
        <origin xyz="0 0 0" rpy="0 0 0"/>
        <parent link="RightFoot_f2"/>
        <child link="RightFoot"/>
        <dynamics damping="0.1" friction="0.0"/>
        <limit effort="30" velocity="1.0" lower="-0.436332" upper="0.872665" />
        <axis xyz="0 0 1" />
    </joint>
	<joint name="jRightBallFoot_roty" type="revolute">
        <origin xyz="0.16043           0   -0.066506" rpy="0 0 0"/>
        <parent link="RightFoot"/>
        <child link="RightToe"/>
        <dynamics damping="0.1" friction="0.0"/>
        <limit effort="30" velocity="1.0" lower="-0.174533" upper="1.5708" />
        <axis xyz="0 1 0" />
    </joint>
	<!--Chain from (20) to (23)-->
	<joint name="jLeftHip_rotx" type="revolute">
        <origin xyz="0.000329    0.095719    0.003228" rpy="0 0 0"/>
        <parent link="Pelvis"/>
        <child link="LeftUpperLeg_f1"/>
        <dynamics damping="0.1" friction="0.0"/>
        <limit effort="30" velocity="1.0" lower="-0.523599" upper="0.785398" />
        <axis xyz="1 0 0" />
    </joint>
	<joint name="jLeftHip_roty" type="revolute">
        <origin xyz="0 0 0" rpy="0 0 0"/>
        <parent link="LeftUpperLeg_f1"/>
        <child link="LeftUpperLeg_f2"/>
        <dynamics damping="0.1" friction="0.0"/>
        <limit effort="30" velocity="1.0" lower="-0.261799" upper="2.0944" />
        <axis xyz="0 1 0" />
    </joint>
    <joint name="jLeftHip_rotz" type="revolute">
        <origin xyz="0 0 0" rpy="0 0 0"/>
        <parent link="LeftUpperLeg_f2"/>
        <child link="LeftUpperLeg"/>
        <dynamics damping="0.1" friction="0.0"/>
        <limit effort="30" velocity="1.0" lower="-0.785398" upper="0.785398" />
        <axis xyz="0 0 1" />
    </joint>
	<joint name="jLeftKnee_roty" type="revolute">
        <origin xyz="-1.7e-05           0    -0.51641" rpy="0 0 0"/>
        <parent link="LeftUpperLeg"/>
        <child link="LeftLowerLeg_f1"/>
        <dynamics damping="0.1" friction="0.0"/>
        <limit effort="30" velocity="1.0" lower="0" upper="2.35619" />
        <axis xyz="0 1 0" />
    </joint>
    <joint name="jLeftKnee_rotz" type="revolute">
        <origin xyz="0 0 0" rpy="0 0 0"/>
        <parent link="LeftLowerLeg_f1"/>
        <child link="LeftLowerLeg"/>
        <dynamics damping="0.1" friction="0.0"/>
        <limit effort="30" velocity="1.0" lower="-0.523599" upper="0.698132" />
        <axis xyz="0 0 1" />
    </joint>
	<joint name="jLeftAnkle_rotx" type="revolute">
        <origin xyz="-6.4e-05           0    -0.44136" rpy="0 0 0"/>
        <parent link="LeftLowerLeg"/>
        <child link="LeftFoot_f1"/>
        <dynamics damping="0.1" friction="0.0"/>
        <limit effort="30" velocity="1.0" lower="-0.610865" upper="0.785398" />
        <axis xyz="1 0 0" />
    </joint>
	<joint name="jLeftAnkle_roty" type="revolute">
        <origin xyz="0 0 0" rpy="0 0 0"/>
        <parent link="LeftFoot_f1"/>
        <child link="LeftFoot_f2"/>
        <dynamics damping="0.1" friction="0.0"/>
        <limit effort="30" velocity="1.0" lower="-0.523599" upper="0.872665" />
        <axis xyz="0 1 0" />
    </joint>
    <joint name="jLeftAnkle_rotz" type="revolute">
        <origin xyz="0 0 0" rpy="0 0 0"/>
        <parent link="LeftFoot_f2"/>
        <child link="LeftFoot"/>
        <dynamics damping="0.1" friction="0.0"/>
        <limit effort="30" velocity="1.0" lower="-0.872665" upper="0.436332" />
        <axis xyz="0 0 1" />
    </joint>
	<joint name="jLeftBallFoot_roty" type="revolute">
        <origin xyz="0.16043           0   -0.066506" rpy="0 0 0"/>
        <parent link="LeftFoot"/>
        <child link="LeftToe"/>
        <dynamics damping="0.1" friction="0.0"/>
        <limit effort="30" velocity="1.0" lower="-0.174533" upper="1.5708" />
        <axis xyz="0 1 0" />
    </joint>

	<!-- Sensor  1-->
<sensor name="Pelvis_gyro" type="gyroscope">
<parent link="Pelvis"/>
<origin xyz="-0.06667  1.9218e-05     0.11377" rpy="0.058235      1.2743     -2.9125"/>
</sensor>
<sensor name="Pelvis_accelerometer" type="accelerometer">
<parent link="Pelvis"/>
<origin xyz="-0.06667  1.9218e-05     0.11377" rpy="0.058235      1.2743     -2.9125"/>
</sensor>
<!-- Sensor  2-->
<sensor name="T8_gyro" type="gyroscope">
<parent link="T8"/>
<origin xyz="0.12972 -1.4872e-09    0.071348" rpy="0.045215      1.2793   -0.026658"/>
</sensor>
<sensor name="T8_accelerometer" type="accelerometer">
<parent link="T8"/>
<origin xyz="0.12972 -1.4872e-09    0.071348" rpy="0.045215      1.2793   -0.026658"/>
</sensor>
<!-- Sensor  3-->
<sensor name="Head_gyro" type="gyroscope">
<parent link="Head"/>
<origin xyz="-0.073763 -5.7664e-08    0.081079" rpy="2.3426    0.082693     -1.5131"/>
</sensor>
<sensor name="Head_accelerometer" type="accelerometer">
<parent link="Head"/>
<origin xyz="-0.073763 -5.7664e-08    0.081079" rpy="2.3426    0.082693     -1.5131"/>
</sensor>
<!-- Sensor  4-->
<sensor name="RightShoulder_gyro" type="gyroscope">
<parent link="RightShoulder"/>
<origin xyz="-0.023016    -0.05754   -0.069048" rpy="1.0994    -0.29541     -1.4356"/>
</sensor>
<sensor name="RightShoulder_accelerometer" type="accelerometer">
<parent link="RightShoulder"/>
<origin xyz="-0.023016    -0.05754   -0.069048" rpy="1.0994    -0.29541     -1.4356"/>
</sensor>
<!-- Sensor  5-->
<sensor name="RightUpperArm_gyro" type="gyroscope">
<parent link="RightUpperArm"/>
<origin xyz="-0.021049    -0.10525    0.021049" rpy="-0.18121   -0.028714      -1.559"/>
</sensor>
<sensor name="RightUpperArm_accelerometer" type="accelerometer">
<parent link="RightUpperArm"/>
<origin xyz="-0.021049    -0.10525    0.021049" rpy="-0.18121   -0.028714      -1.559"/>
</sensor>
<!-- Sensor  6-->
<sensor name="RightForeArm_gyro" type="gyroscope">
<parent link="RightForeArm"/>
<origin xyz="0.0019387    -0.21155    0.021129" rpy="-0.20029     0.04118     -1.3259"/>
</sensor>
<sensor name="RightForeArm_accelerometer" type="accelerometer">
<parent link="RightForeArm"/>
<origin xyz="0.0019387    -0.21155    0.021129" rpy="-0.20029     0.04118     -1.3259"/>
</sensor>
<!-- Sensor  7-->
<sensor name="RightHand_gyro" type="gyroscope">
<parent link="RightHand"/>
<origin xyz="1.9276e-08   -0.058423    0.021245" rpy="-0.27973    -0.18064     -1.2866"/>
</sensor>
<sensor name="RightHand_accelerometer" type="accelerometer">
<parent link="RightHand"/>
<origin xyz="1.9276e-08   -0.058423    0.021245" rpy="-0.27973    -0.18064     -1.2866"/>
</sensor>
<!-- Sensor  8-->
<sensor name="LeftShoulder_gyro" type="gyroscope">
<parent link="LeftShoulder"/>
<origin xyz="-0.023016     0.05754   -0.069048" rpy="-1.0089    -0.34586      1.3174"/>
</sensor>
<sensor name="LeftShoulder_accelerometer" type="accelerometer">
<parent link="LeftShoulder"/>
<origin xyz="-0.023016     0.05754   -0.069048" rpy="-1.0089    -0.34586      1.3174"/>
</sensor>
<!-- Sensor  9-->
<sensor name="LeftUpperArm_gyro" type="gyroscope">
<parent link="LeftUpperArm"/>
<origin xyz="-0.021049     0.10525    0.021049" rpy="0.030288   -0.042253      1.4747"/>
</sensor>
<sensor name="LeftUpperArm_accelerometer" type="accelerometer">
<parent link="LeftUpperArm"/>
<origin xyz="-0.021049     0.10525    0.021049" rpy="0.030288   -0.042253      1.4747"/>
</sensor>
<!-- Sensor  10-->
<sensor name="LeftForeArm_gyro" type="gyroscope">
<parent link="LeftForeArm"/>
<origin xyz="0.0019386     0.21155     0.02113" rpy="0.17531   -0.052628      1.4252"/>
</sensor>
<sensor name="LeftForeArm_accelerometer" type="accelerometer">
<parent link="LeftForeArm"/>
<origin xyz="0.0019386     0.21155     0.02113" rpy="0.17531   -0.052628      1.4252"/>
</sensor>
<!-- Sensor  11-->
<sensor name="LeftHand_gyro" type="gyroscope">
<parent link="LeftHand"/>
<origin xyz="-1.0978e-07    0.058423    0.021245" rpy="0.18354    -0.17407       1.488"/>
</sensor>
<sensor name="LeftHand_accelerometer" type="accelerometer">
<parent link="LeftHand"/>
<origin xyz="-1.0978e-07    0.058423    0.021245" rpy="0.18354    -0.17407       1.488"/>
</sensor>
<!-- Sensor  12-->
<sensor name="RightUpperLeg_gyro" type="gyroscope">
<parent link="RightUpperLeg"/>
<origin xyz="0.014955   -0.052655    -0.31107" rpy="2.6448      1.4197      1.0822"/>
</sensor>
<sensor name="RightUpperLeg_accelerometer" type="accelerometer">
<parent link="RightUpperLeg"/>
<origin xyz="0.014955   -0.052655    -0.31107" rpy="2.6448      1.4197      1.0822"/>
</sensor>
<!-- Sensor  13-->
<sensor name="RightLowerLeg_gyro" type="gyroscope">
<parent link="RightLowerLeg"/>
<origin xyz="0.033526   0.0076743    -0.14424" rpy="-2.4205      1.5343     -2.7176"/>
</sensor>
<sensor name="RightLowerLeg_accelerometer" type="accelerometer">
<parent link="RightLowerLeg"/>
<origin xyz="0.033526   0.0076743    -0.14424" rpy="-2.4205      1.5343     -2.7176"/>
</sensor>
<!-- Sensor  14-->
<sensor name="RightFoot_gyro" type="gyroscope">
<parent link="RightFoot"/>
<origin xyz="0.091788   0.0015275   -0.012958" rpy="0.31723     0.31046    -0.12923"/>
</sensor>
<sensor name="RightFoot_accelerometer" type="accelerometer">
<parent link="RightFoot"/>
<origin xyz="0.091788   0.0015275   -0.012958" rpy="0.31723     0.31046    -0.12923"/>
</sensor>
<!-- Sensor  15-->
<sensor name="LeftUpperLeg_gyro" type="gyroscope">
<parent link="LeftUpperLeg"/>
<origin xyz="0.014955    0.052655    -0.31107" rpy="2.5284      1.4035     -2.3242"/>
</sensor>
<sensor name="LeftUpperLeg_accelerometer" type="accelerometer">
<parent link="LeftUpperLeg"/>
<origin xyz="0.014955    0.052655    -0.31107" rpy="2.5284      1.4035     -2.3242"/>
</sensor>
<!-- Sensor  16-->
<sensor name="LeftLowerLeg_gyro" type="gyroscope">
<parent link="LeftLowerLeg"/>
<origin xyz="0.033526  -0.0076744    -0.14424" rpy="-3.0126      1.4123     -3.1283"/>
</sensor>
<sensor name="LeftLowerLeg_accelerometer" type="accelerometer">
<parent link="LeftLowerLeg"/>
<origin xyz="0.033526  -0.0076744    -0.14424" rpy="-3.0126      1.4123     -3.1283"/>
</sensor>
<!-- Sensor  17-->
<sensor name="LeftFoot_gyro" type="gyroscope">
<parent link="LeftFoot"/>
<origin xyz="0.091788  -0.0015275   -0.012958" rpy="-0.32102     0.38373     0.13021"/>
</sensor>
<sensor name="LeftFoot_accelerometer" type="accelerometer">
<parent link="LeftFoot"/>
<origin xyz="0.091788  -0.0015275   -0.012958" rpy="-0.32102     0.38373     0.13021"/>
</sensor>


</robot>
